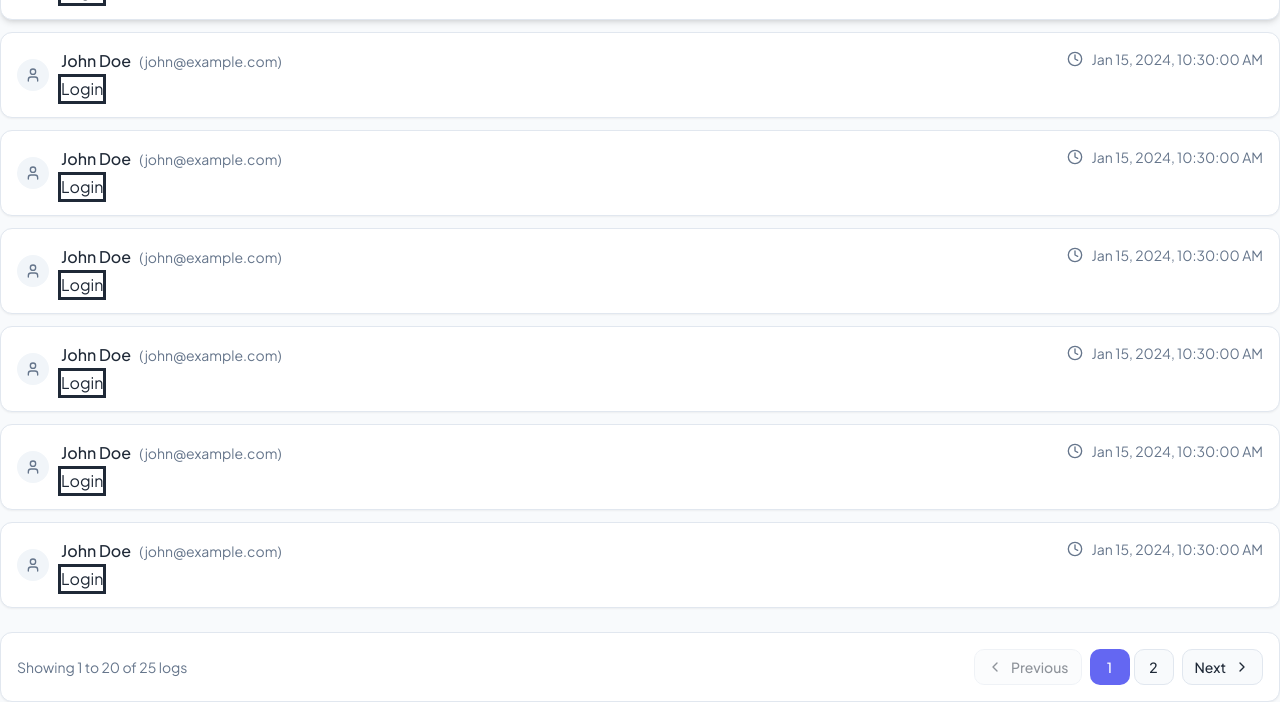
Scenario: ActivityLog Component › Pagination › should navigate to previous page
The image size is (1280, 702).
(page scrolled)
Note: Go to page 2
Step 1. Click the button "Next" → (1222, 667), box [1182,649,1263,685]
(page scrolled)
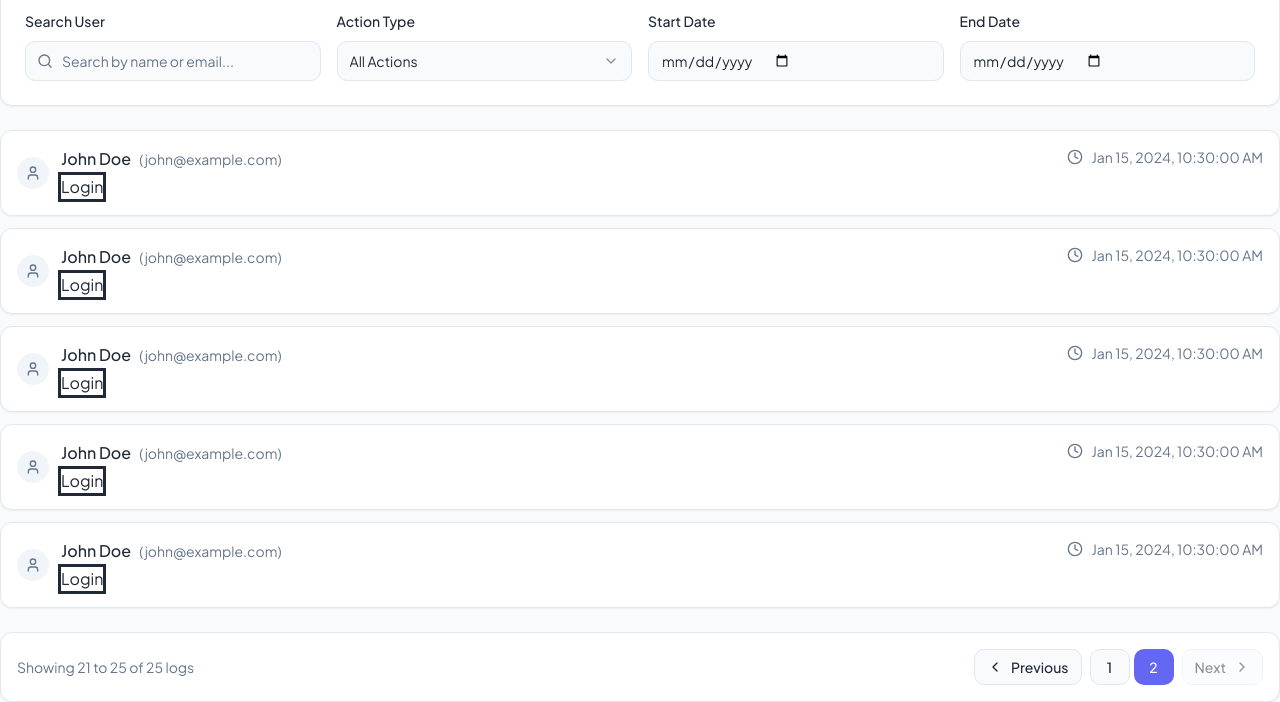
Check: the text "Showing 21 to 25 of 25 logs" is shown, box [17,657,194,677]
Note: Go back to page 1
Step 2. Click the button "Previous" → (1028, 667), box [974,649,1082,685]
(page scrolled)
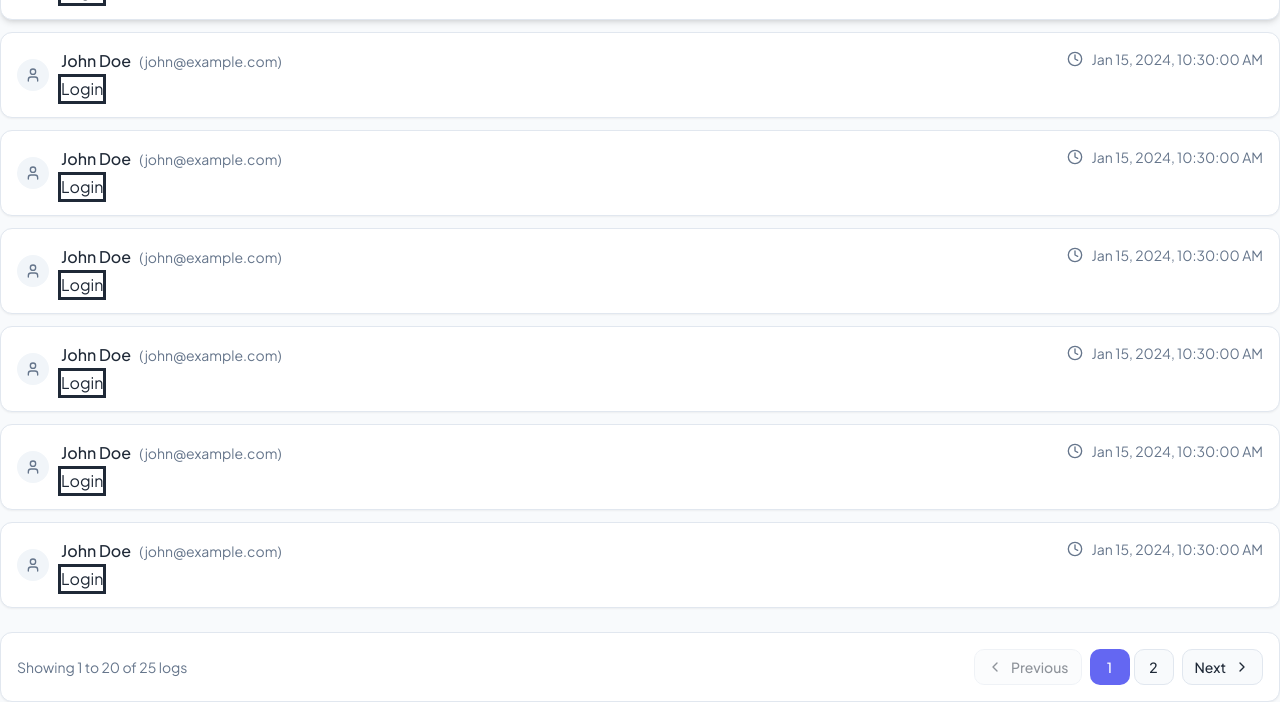
Check: the text "Showing 1 to 20 of 25 logs" is shown, box [17,657,188,677]
